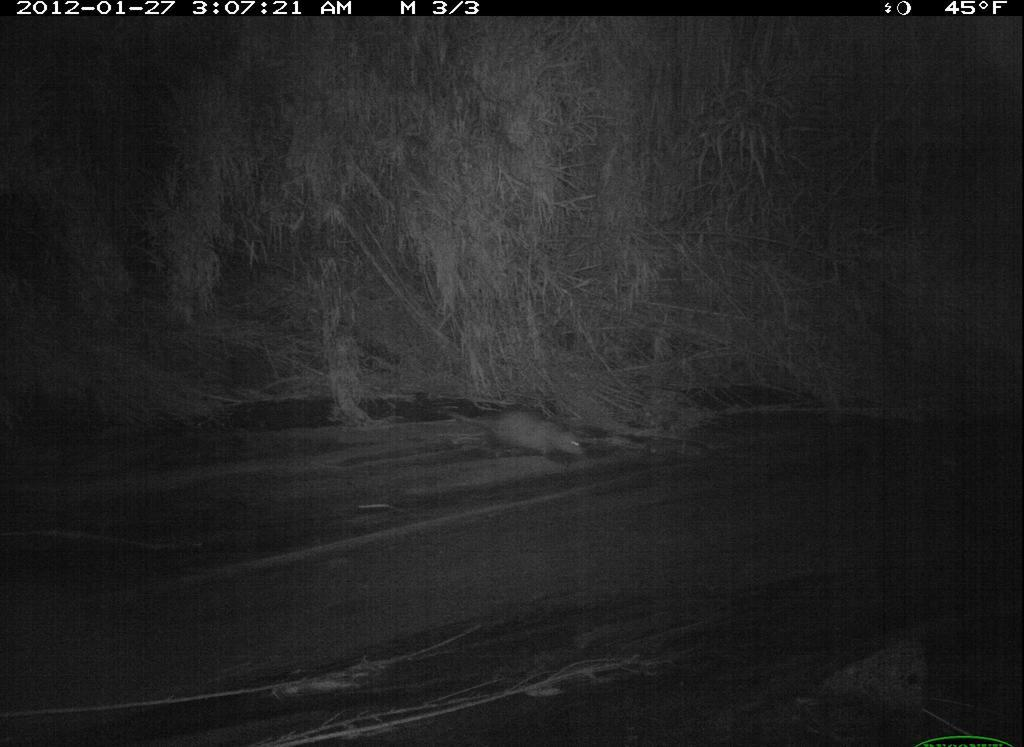opossum: (425, 387, 602, 480)
